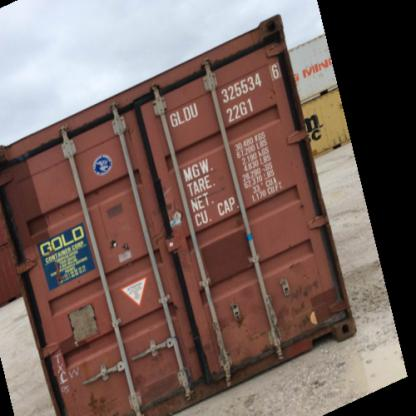Damage: (260, 273, 330, 337), (197, 306, 251, 373), (142, 169, 176, 241), (82, 378, 127, 414), (102, 229, 133, 255)
